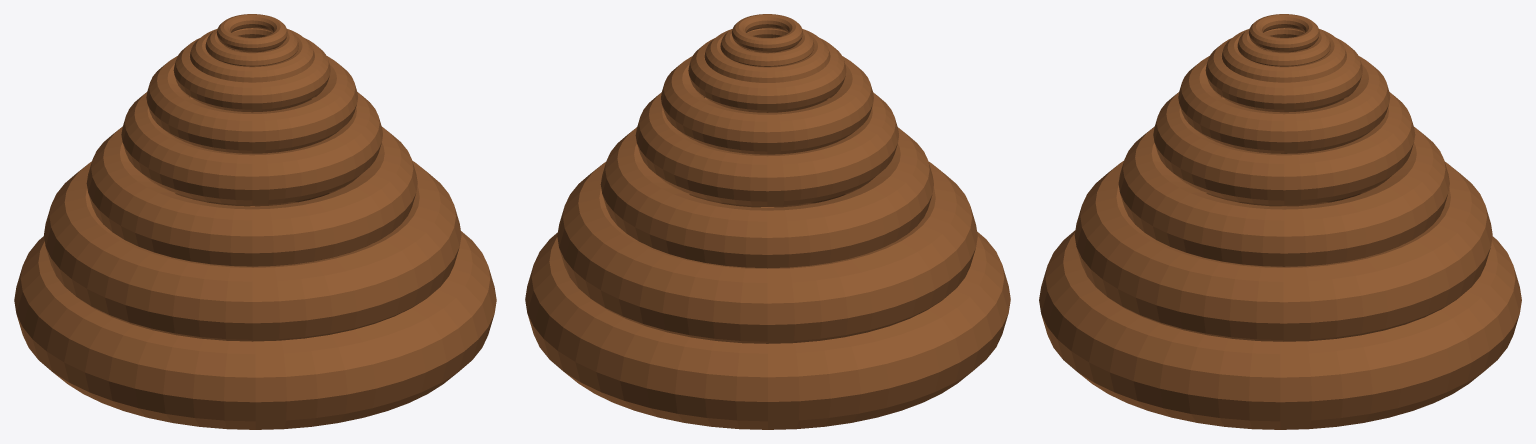
File: Bok.fbx
3 views of the same model, side by side, from view 1: azimuth 30°, elevation 25°; view 2: azimuth 150°, elevation 25°; view 3: azimuth 270°, elevation 25° (orthographic).
Parts seen in each view (by area): view 1: Torus; view 2: Torus; view 3: Torus.
Part boxes in pixels (x1=…): Torus: x1=14, y1=14, x2=496, y2=429; Torus: x1=525, y1=14, x2=1010, y2=429; Torus: x1=1039, y1=14, x2=1521, y2=429.
Size of the model in its own units: 241 by 174 by 241.
